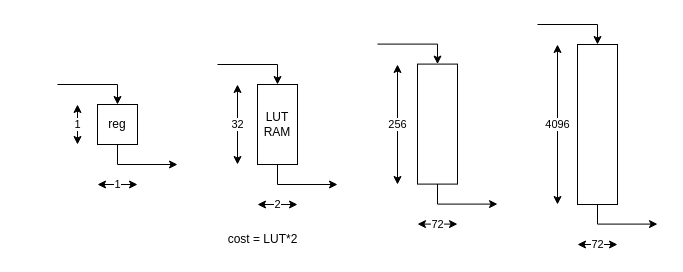
The diagram is 683 pixels wide and 272 high, and some of its shapes have lost their labels. The shapes that lost their labels are listed below. From the top down, each one's centre as x and y in pixels, then its label:
the point at 437,123: BRAM 18
the point at 597,124: URAM 288
